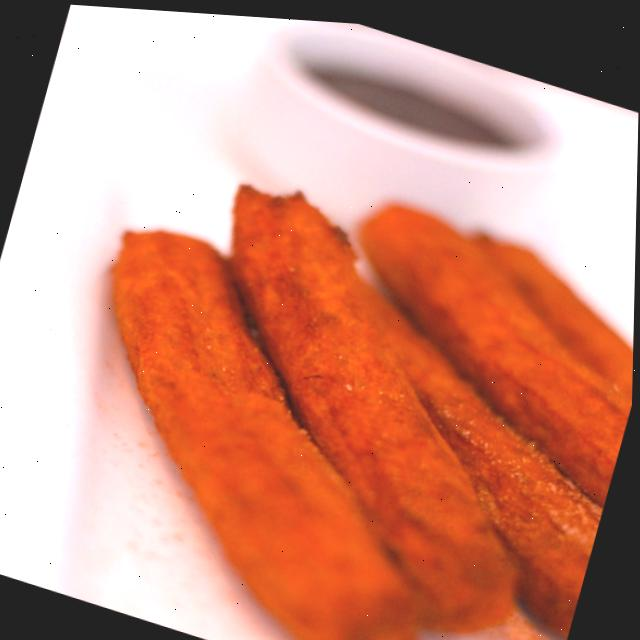炸货点心: (0, 88, 638, 640)
